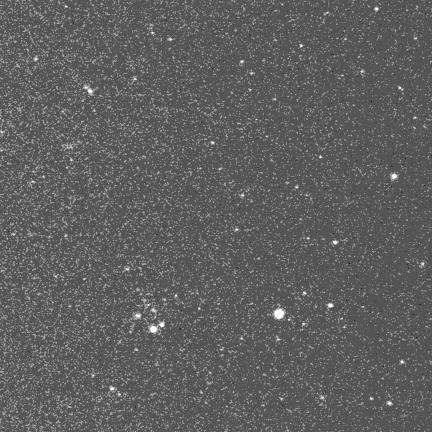blob: (274, 308, 284, 319), (150, 326, 158, 334), (391, 173, 397, 180), (387, 401, 393, 406), (135, 313, 141, 318), (110, 386, 115, 391), (88, 89, 93, 94), (333, 240, 338, 245), (240, 193, 245, 198), (328, 303, 333, 307), (160, 322, 164, 327), (34, 56, 38, 61), (319, 155, 323, 159), (240, 60, 244, 64), (375, 7, 379, 11), (400, 360, 404, 364), (370, 397, 374, 401), (421, 262, 424, 267), (295, 185, 299, 188), (84, 86, 88, 89), (303, 291, 306, 295), (168, 38, 172, 41), (211, 141, 214, 144), (300, 44, 303, 47)
